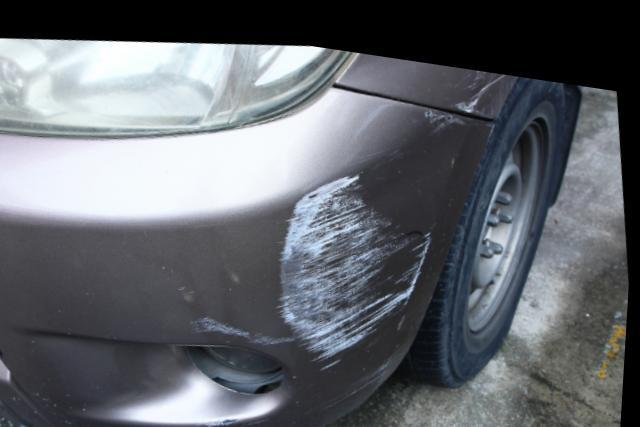scratch: (197, 157, 435, 356), (455, 55, 515, 98), (417, 94, 463, 119), (202, 408, 248, 422)
